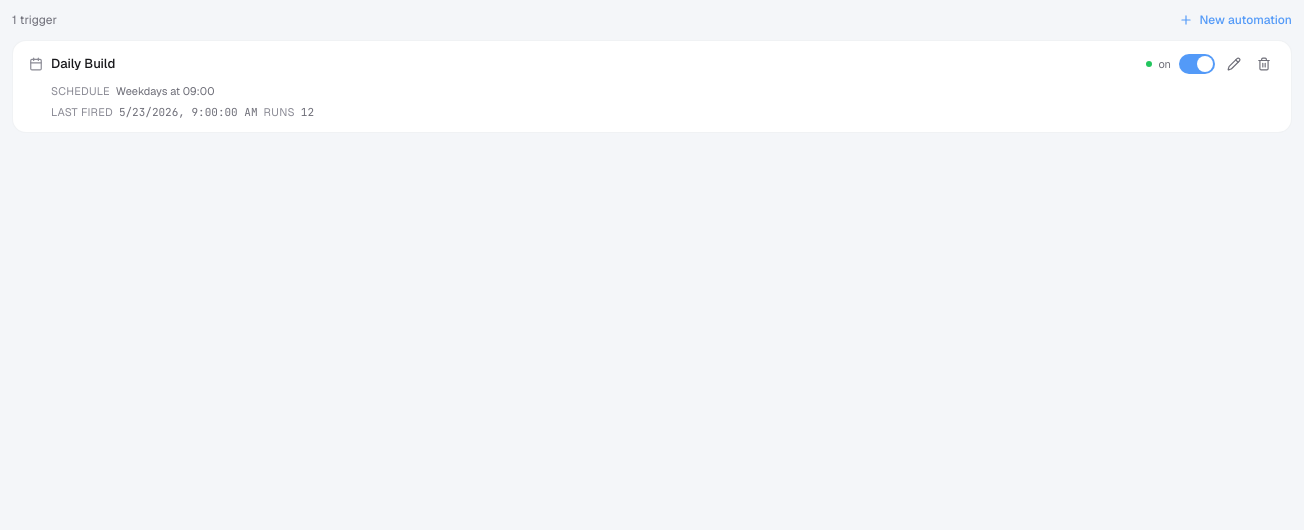
AutomationsList — edit › cancelling the edit restores the row and saves nothing
This screenshot has width=1304, height=530.
Click the button named "Edit Daily Build".
click(1234, 64)  # box [1223,53,1245,75]
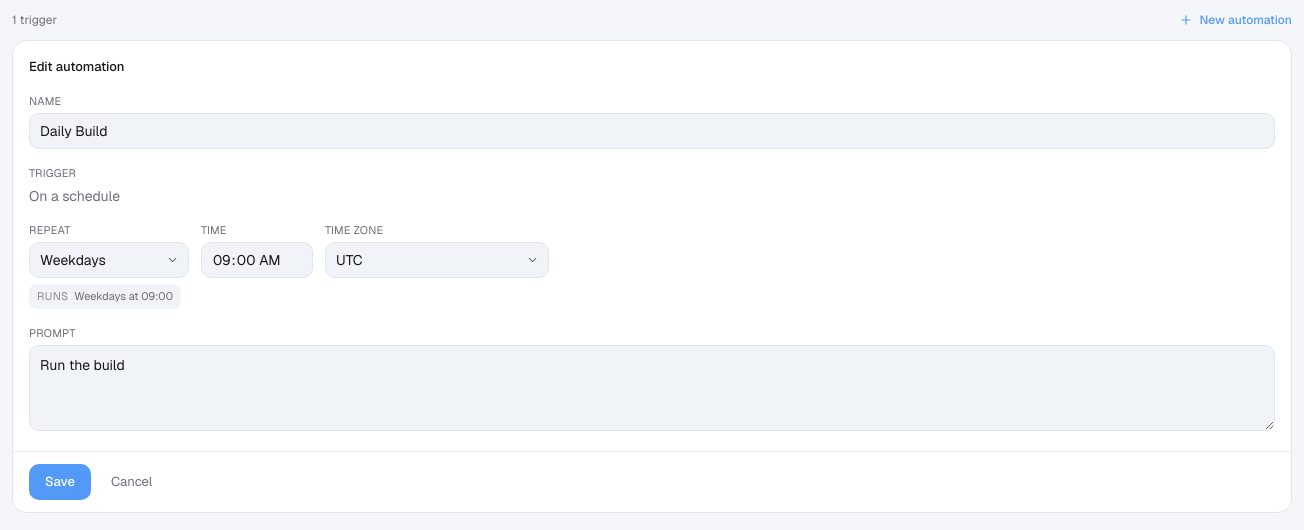
Click the button with test id "automation-form-cancel".
click(132, 482)  # box [99,464,164,500]
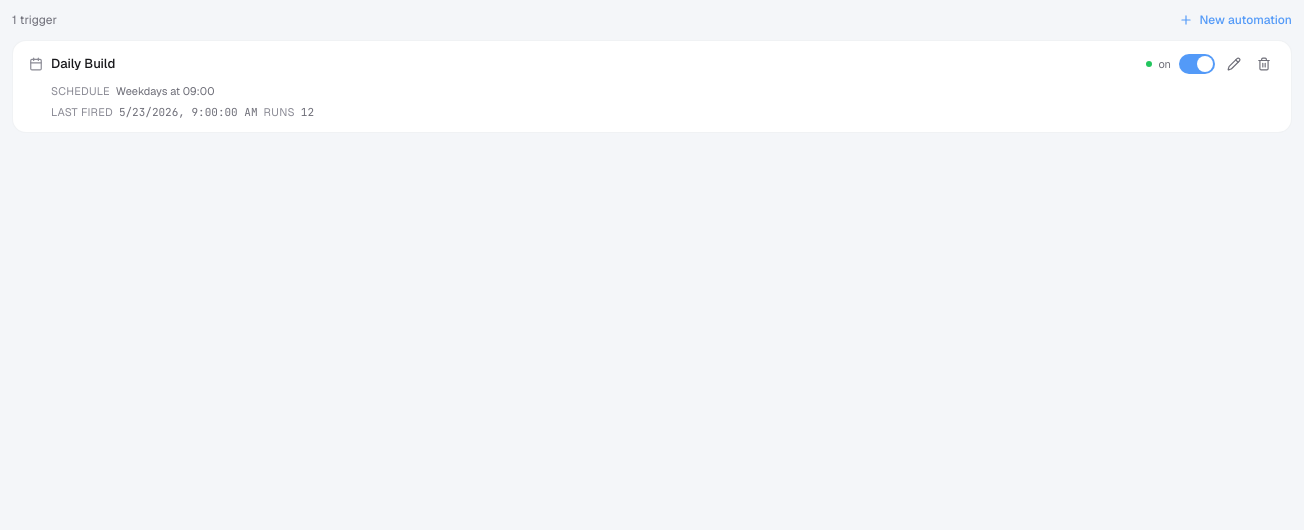
Now the form with test id "automation-form" is gone
